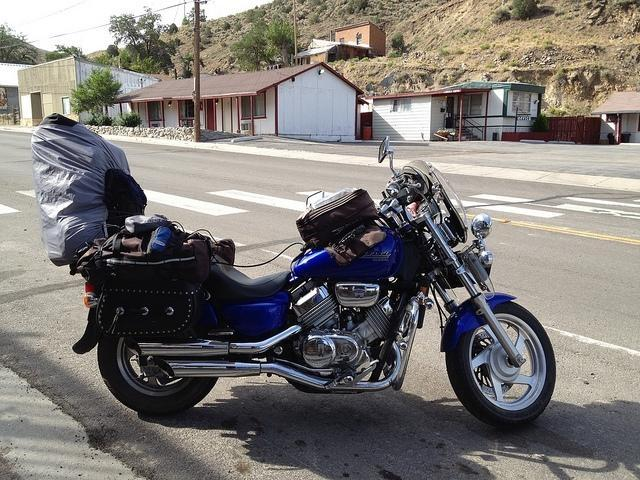motorcycle: (70, 135, 558, 429)
